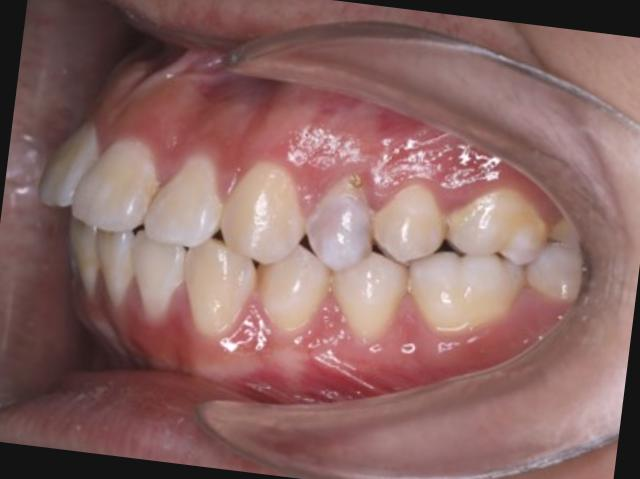canine class I: (171, 145, 346, 369)
molar class III 1/2: (398, 170, 554, 362)
